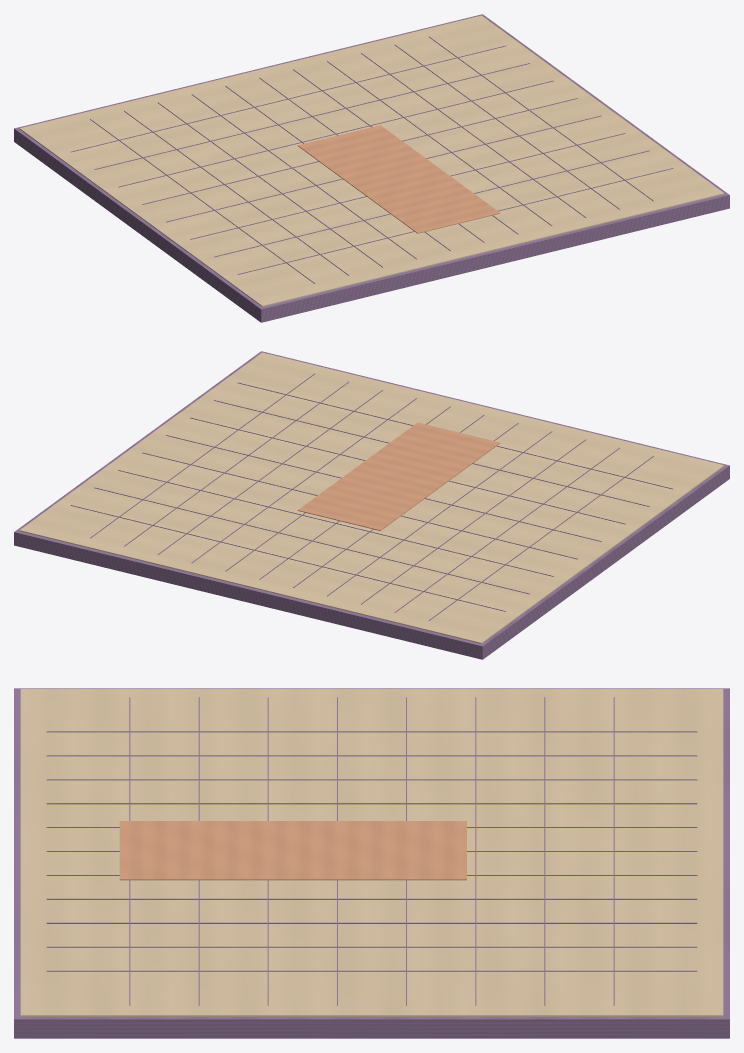
The model's file is atlas100-s085-a07.glb.
3 renders of one model, top to bottom at view 1: azimuth 30°, elevation 25°; view 2: azimuth 150°, elevation 25°; view 3: azimuth 270°, elevation 25°, orthographic. The views are drawn at different scales.
Parts seen in each view (by area): view 1: atlas100-s085-a07:part-001, atlas100-s085-a07:part-000, atlas100-s085-a07:part-021, atlas100-s085-a07:part-015, atlas100-s085-a07:part-014, atlas100-s085-a07:part-013, atlas100-s085-a07:part-017, atlas100-s085-a07:part-016, atlas100-s085-a07:part-019, atlas100-s085-a07:part-018, atlas100-s085-a07:part-020; view 2: atlas100-s085-a07:part-001, atlas100-s085-a07:part-000, atlas100-s085-a07:part-021, atlas100-s085-a07:part-013, atlas100-s085-a07:part-015, atlas100-s085-a07:part-014, atlas100-s085-a07:part-016, atlas100-s085-a07:part-017, atlas100-s085-a07:part-019, atlas100-s085-a07:part-018, atlas100-s085-a07:part-020; view 3: atlas100-s085-a07:part-001, atlas100-s085-a07:part-000, atlas100-s085-a07:part-021, atlas100-s085-a07:part-009, atlas100-s085-a07:part-011, atlas100-s085-a07:part-012, atlas100-s085-a07:part-004, atlas100-s085-a07:part-005, atlas100-s085-a07:part-002, atlas100-s085-a07:part-003, atlas100-s085-a07:part-010, atlas100-s085-a07:part-015 (+2 smaller).
Part boxes in pixels (x1,y1,x2,y2): atlas100-s085-a07:part-001: (19,15,724,306); atlas100-s085-a07:part-000: (14,14,729,322); atlas100-s085-a07:part-021: (297,125,500,233); atlas100-s085-a07:part-015: (118,80,553,187); atlas100-s085-a07:part-014: (94,63,529,169); atlas100-s085-a07:part-013: (71,45,505,152); atlas100-s085-a07:part-017: (166,115,601,222); atlas100-s085-a07:part-016: (142,98,577,204); atlas100-s085-a07:part-019: (214,150,649,257); atlas100-s085-a07:part-018: (190,133,625,239); atlas100-s085-a07:part-020: (238,168,673,274); atlas100-s085-a07:part-001: (19,352,724,643); atlas100-s085-a07:part-000: (14,351,729,659); atlas100-s085-a07:part-021: (297,422,500,530); atlas100-s085-a07:part-013: (70,505,505,611); atlas100-s085-a07:part-015: (118,470,553,576); atlas100-s085-a07:part-014: (94,487,529,594); atlas100-s085-a07:part-016: (142,452,577,559); atlas100-s085-a07:part-017: (166,435,601,541); atlas100-s085-a07:part-019: (214,400,649,506); atlas100-s085-a07:part-018: (190,417,625,524); atlas100-s085-a07:part-020: (238,382,672,489); atlas100-s085-a07:part-001: (20,689,723,1016); atlas100-s085-a07:part-000: (14,688,729,1038); atlas100-s085-a07:part-021: (119,821,466,880); atlas100-s085-a07:part-009: (46,898,697,899); atlas100-s085-a07:part-011: (46,946,697,947); atlas100-s085-a07:part-012: (46,970,697,971); atlas100-s085-a07:part-004: (46,779,697,780); atlas100-s085-a07:part-005: (46,803,697,804); atlas100-s085-a07:part-002: (46,731,697,732); atlas100-s085-a07:part-003: (46,755,697,756); atlas100-s085-a07:part-010: (46,922,697,923); atlas100-s085-a07:part-015: (475,697,476,1005).
Bounding box in the file's own units: 12.46 × 0.404 × 11.39.
Materials: 3 (3 with a texture image).
